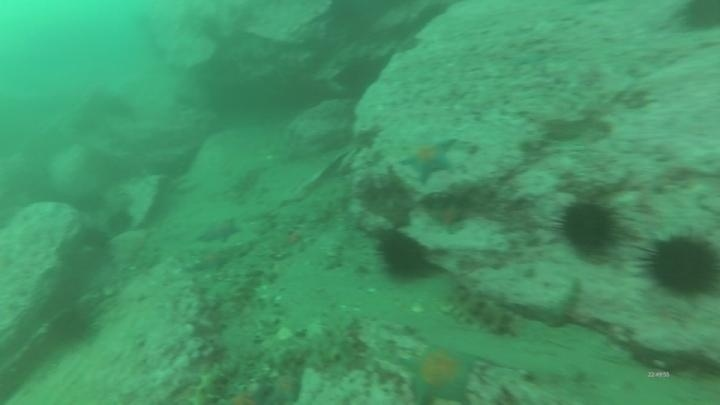echinus: (638, 229, 720, 301), (553, 196, 625, 260), (375, 229, 432, 283), (47, 305, 97, 348), (677, 0, 720, 35), (104, 207, 135, 239)
holothurian: (439, 286, 522, 339), (188, 357, 241, 405)
starfish: (397, 340, 480, 404), (398, 133, 458, 185), (195, 215, 243, 246), (426, 199, 471, 232), (265, 369, 304, 405), (190, 247, 233, 275), (506, 47, 548, 69)
